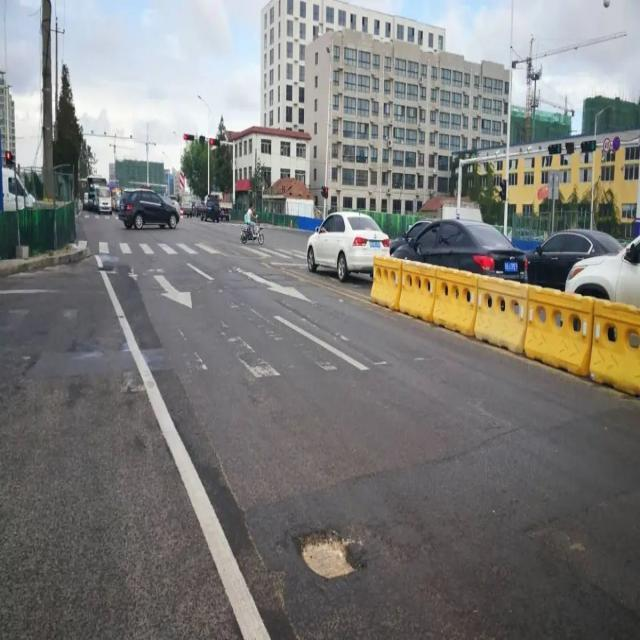Buraco: (288, 527, 374, 583)
